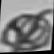not correct: (0, 1, 54, 54)
